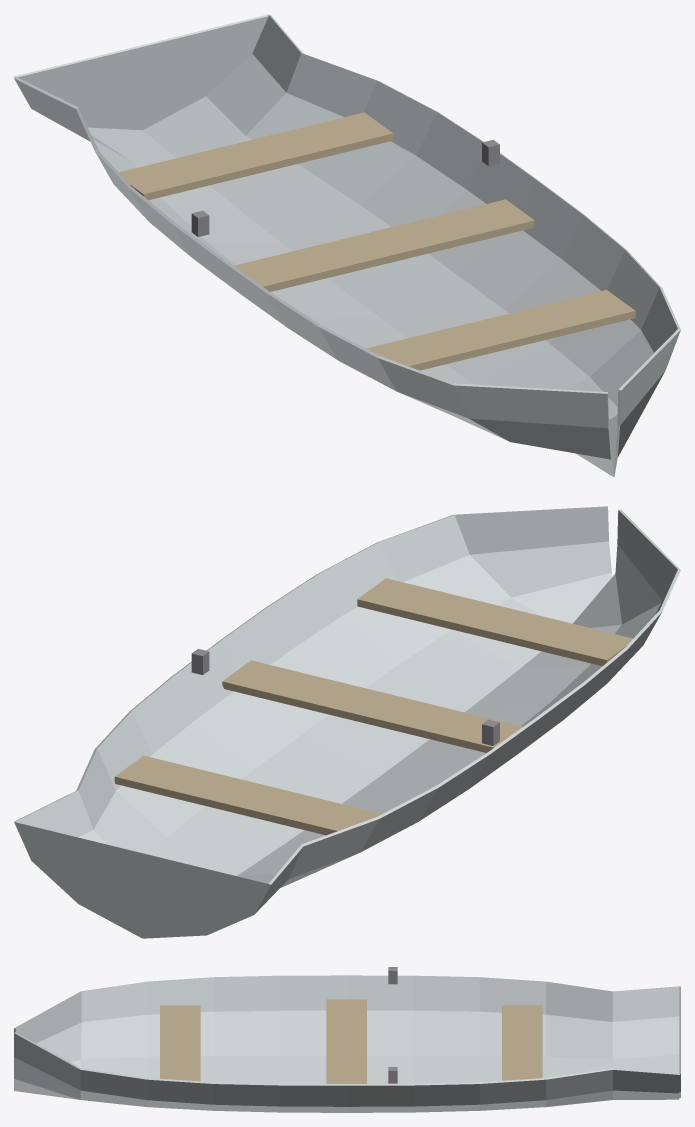
File: rowboat.glb
The picture shows the model from 3 angles, top to bottom: view 1: azimuth 30°, elevation 25°; view 2: azimuth 150°, elevation 25°; view 3: azimuth 270°, elevation 25°; orthographic projection. The views are drawn at different scales.
Visible parts, largest first — view 1: Rowboat_hull, Rowboat_seat.001, Rowboat_seat.002, Rowboat_seat; view 2: Rowboat_hull, Rowboat_seat.001, Rowboat_seat, Rowboat_seat.002; view 3: Rowboat_hull, Rowboat_seat.001, Rowboat_seat, Rowboat_seat.002.
Part boxes in pixels (left/top/right/bottom): Rowboat_hull: left=14, top=14, right=680, bottom=477; Rowboat_seat.001: left=234, top=199, right=534, bottom=291; Rowboat_seat.002: left=119, top=112, right=393, bottom=200; Rowboat_seat: left=366, top=290, right=635, bottom=370; Rowboat_hull: left=14, top=506, right=680, bottom=938; Rowboat_seat.001: left=222, top=660, right=522, bottom=752; Rowboat_seat: left=357, top=578, right=633, bottom=666; Rowboat_seat.002: left=114, top=755, right=381, bottom=835; Rowboat_hull: left=14, top=975, right=680, bottom=1112; Rowboat_seat.001: left=326, top=999, right=366, bottom=1083; Rowboat_seat: left=160, top=1005, right=200, bottom=1081; Rowboat_seat.002: left=502, top=1005, right=542, bottom=1080.
Size of the model in its own units: 1.41 by 0.49 by 3.61.
